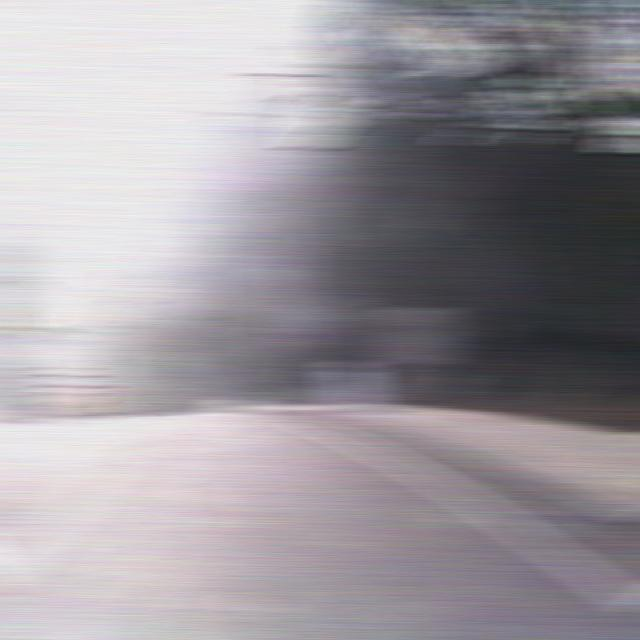stop: (268, 328, 305, 353)
